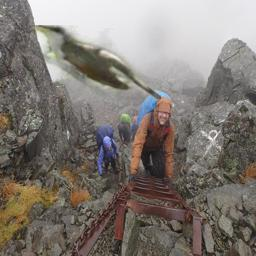Cuckoo: (31, 25, 161, 99)
